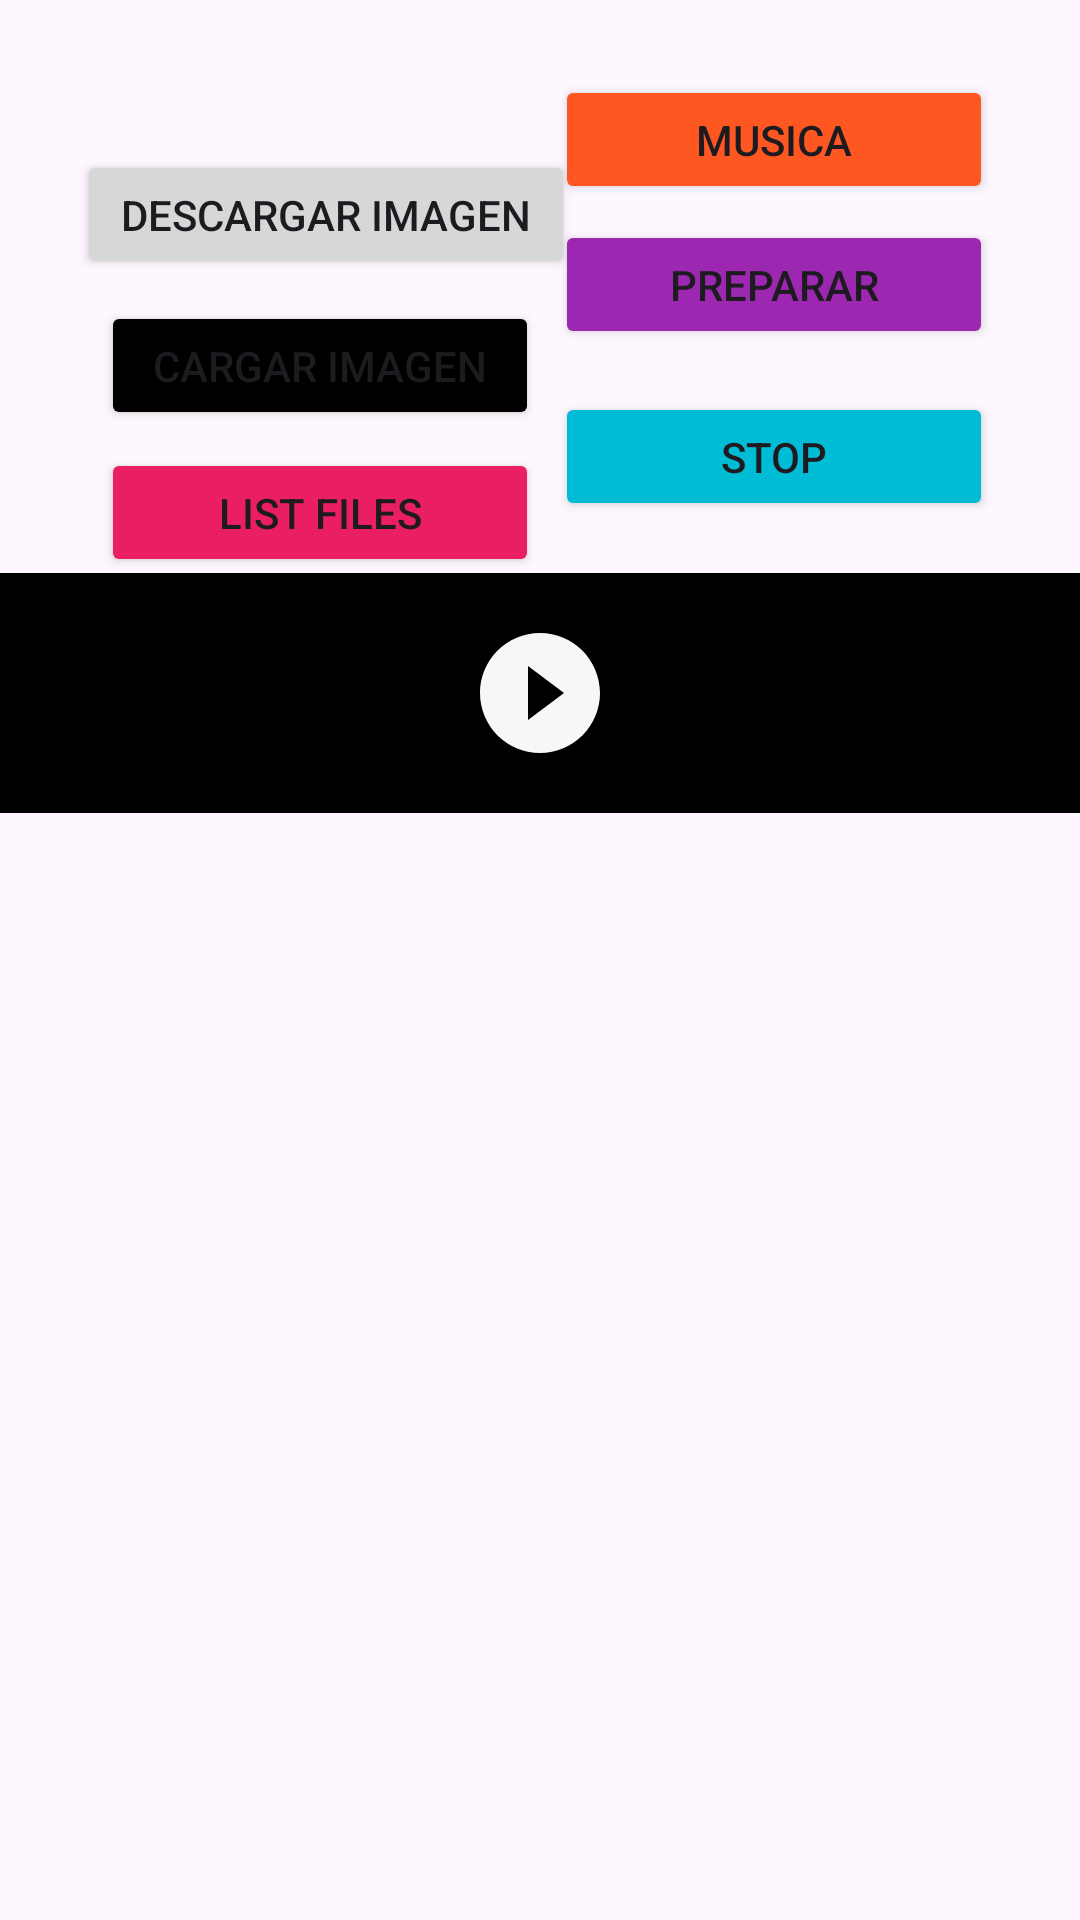

Locate icon controls on the screen. Image size 1080w x 1920h, boxes as bbox(x1, y1, x2, y2).
play circle: bbox(480, 633, 600, 753)
